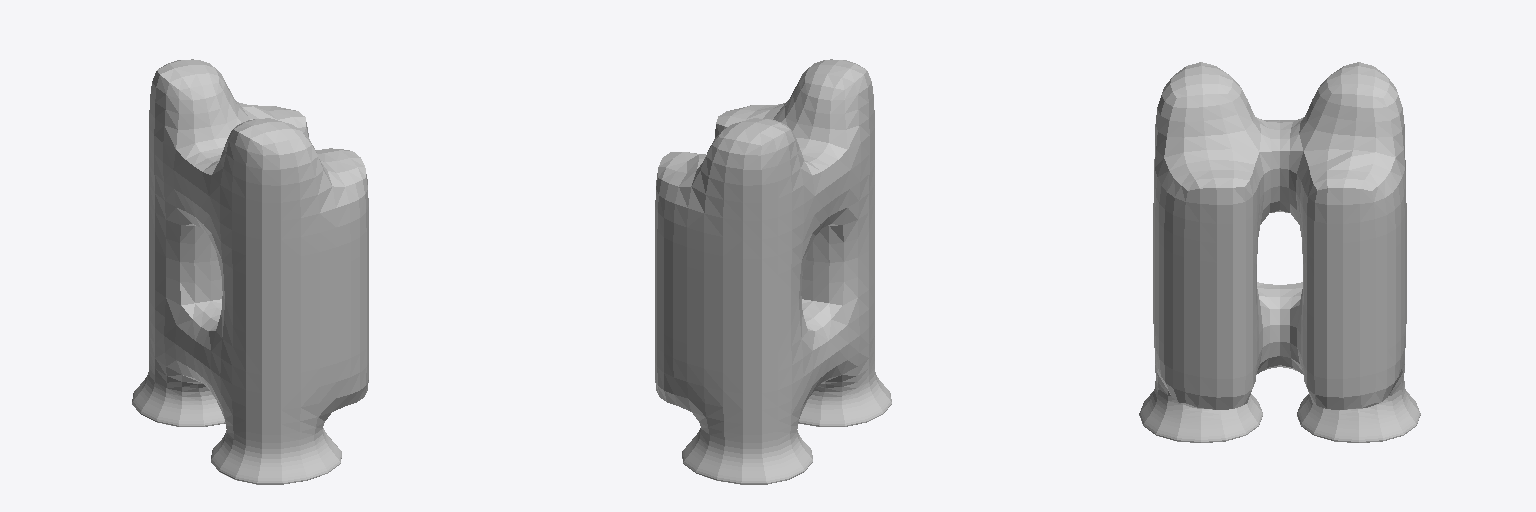
File: jetpack.obj
The picture shows the model from 3 angles: view 1: azimuth 30°, elevation 25°; view 2: azimuth 150°, elevation 25°; view 3: azimuth 270°, elevation 25°; orthographic projection.
Parts seen in each view (by area): view 1: Cube; view 2: Cube; view 3: Cube.
Boxes of the visible parts, <box> form: Cube: <box>132,59,368,484</box>; Cube: <box>655,59,891,484</box>; Cube: <box>1139,62,1420,442</box>.
Bounding box in the file's own units: 0.4455 × 0.9447 × 0.7118.